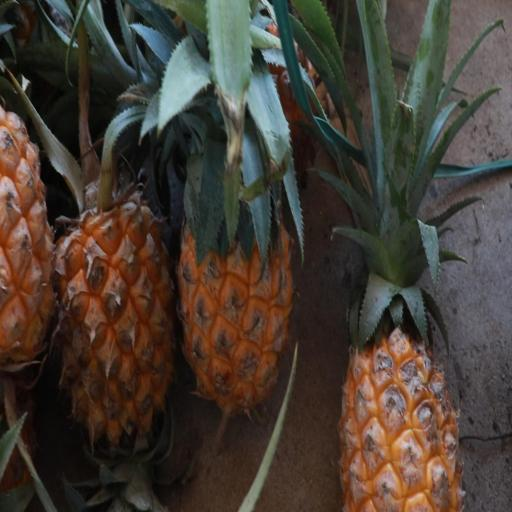Pineapple - v8 v1: (334, 138, 467, 511), (51, 106, 182, 451), (174, 101, 300, 426)
